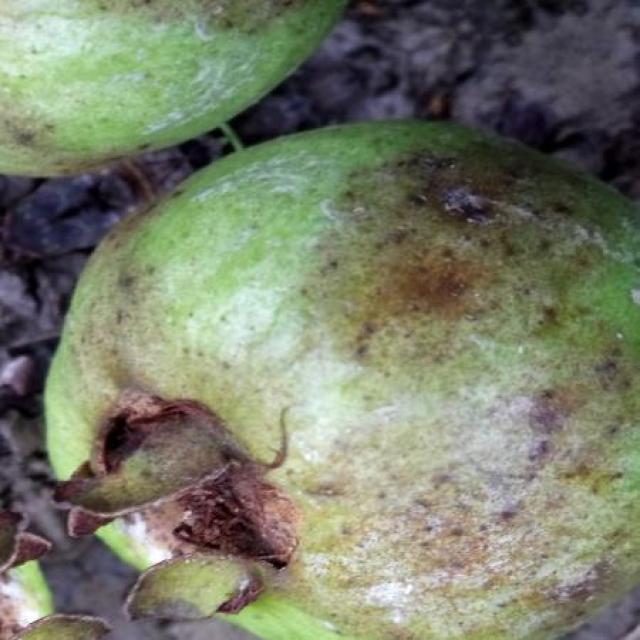Styler and Root: (274, 132, 640, 640)
